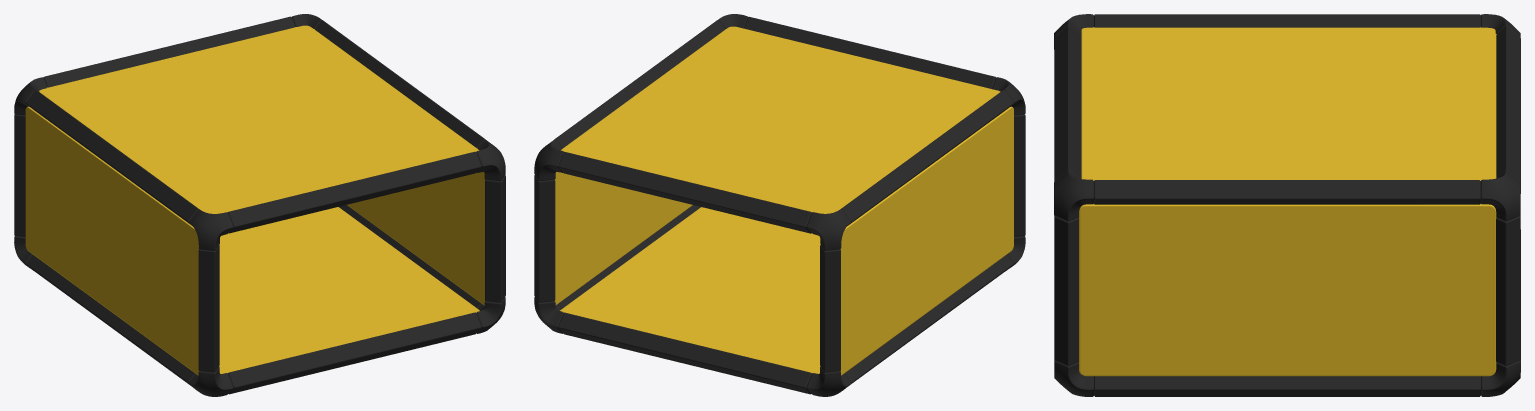
The picture shows the model from 3 angles, left to right: view 1: azimuth 30°, elevation 25°; view 2: azimuth 150°, elevation 25°; view 3: azimuth 270°, elevation 25°; orthographic projection. The views are drawn at different scales.
Parts seen in each view (by area): view 1: 329x374x154; view 2: 329x374x154; view 3: 329x374x154.
Part boxes in pixels (box(x1,y1,x2,y2)): 329x374x154: box(14, 14, 505, 396); 329x374x154: box(534, 14, 1025, 396); 329x374x154: box(1054, 14, 1520, 396).
Bounding box in the file's own units: 0.4068 × 0.2317 × 0.4513.
